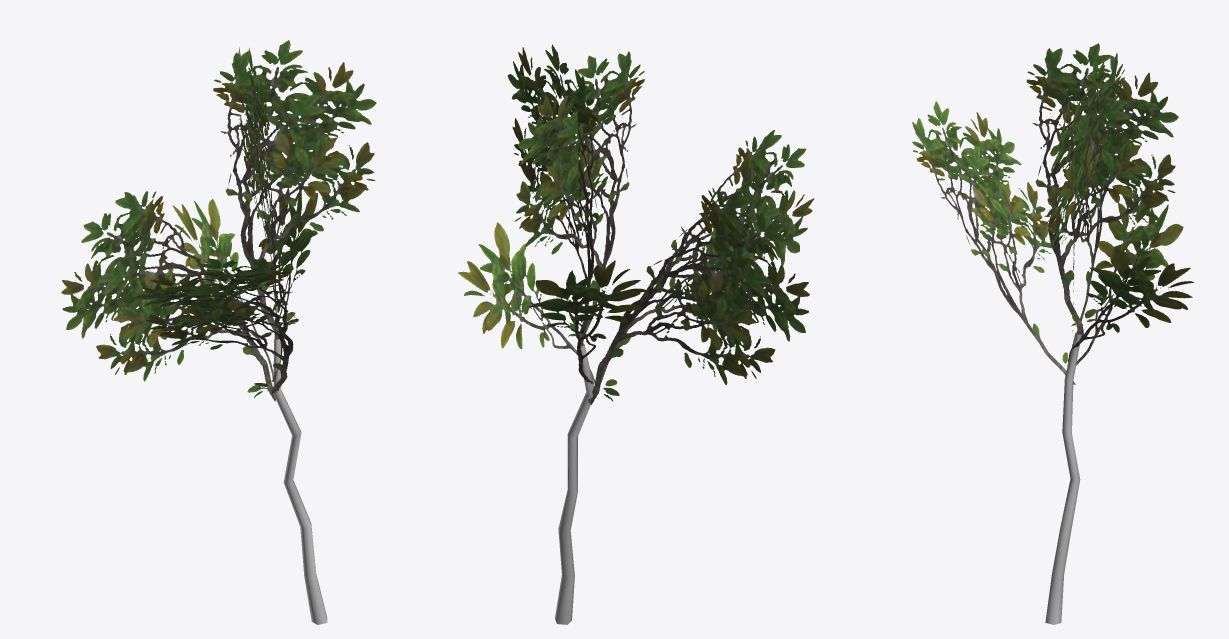
The model's file is tree4.FBX.
3 views of the same model, side by side, from view 1: azimuth 30°, elevation 25°; view 2: azimuth 150°, elevation 25°; view 3: azimuth 270°, elevation 25° (orthographic). The views are drawn at different scales.
Parts seen in each view (by area): view 1: tree4; view 2: tree4; view 3: tree4.
Part boxes in pixels (bbox=[...]): tree4: bbox=[61, 40, 376, 624]; tree4: bbox=[458, 44, 814, 624]; tree4: bbox=[912, 43, 1193, 624].
Bounding box in the file's own units: 35.69 × 53.15 × 27.28.
